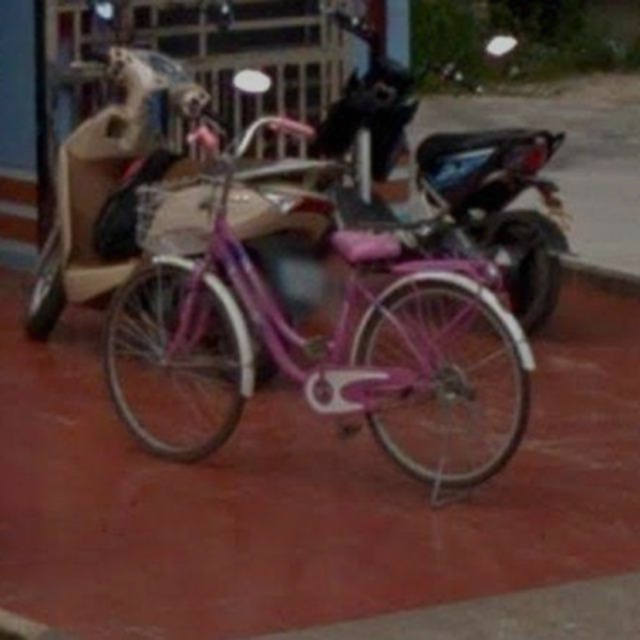bicycle: (88, 103, 548, 519)
motorcycle: (9, 6, 310, 348), (294, 16, 587, 305)
